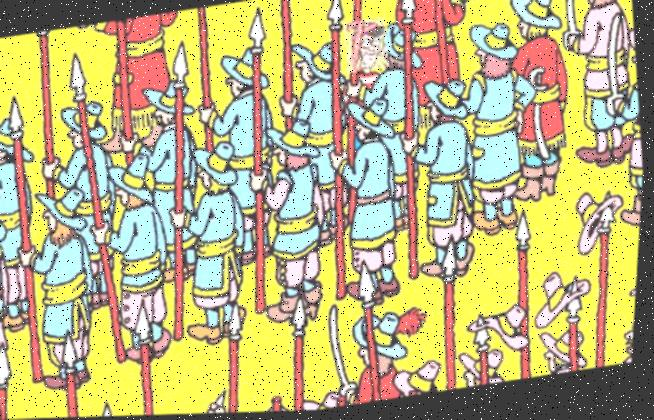waldo: (342, 19, 391, 77)
